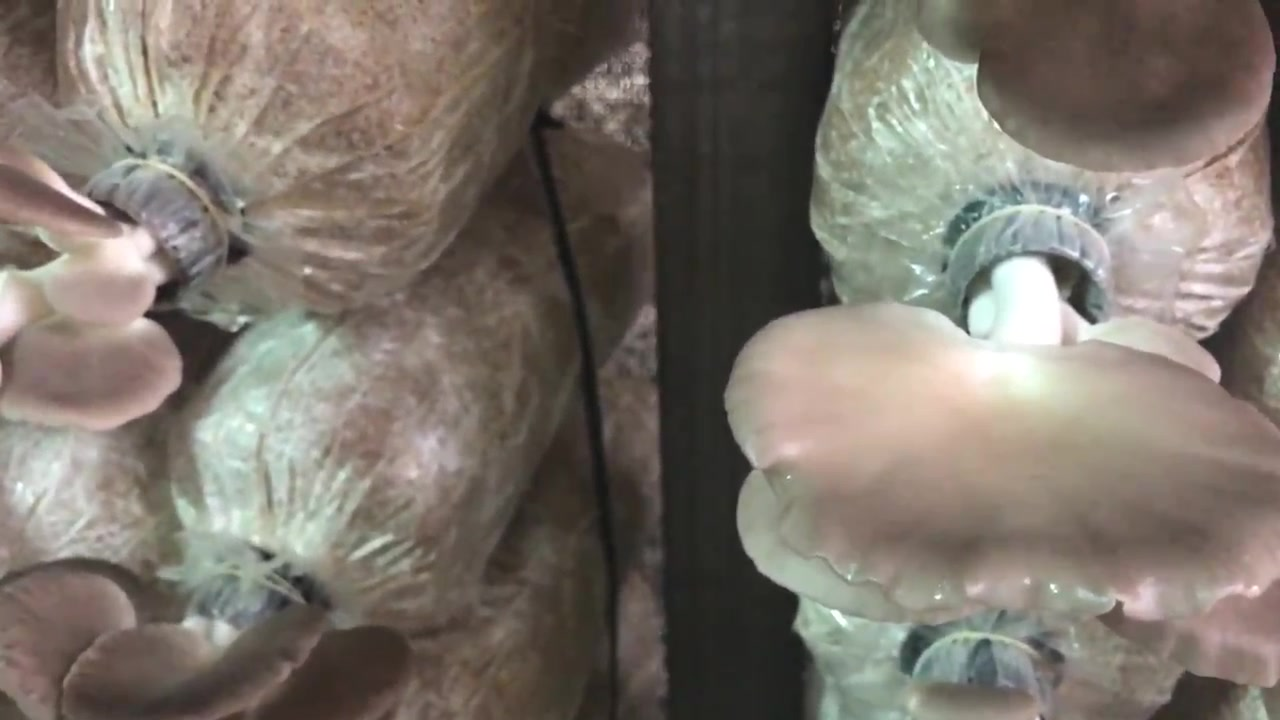nam: (720, 199, 1280, 627), (1, 120, 245, 435), (916, 9, 1270, 177), (59, 567, 417, 720)
